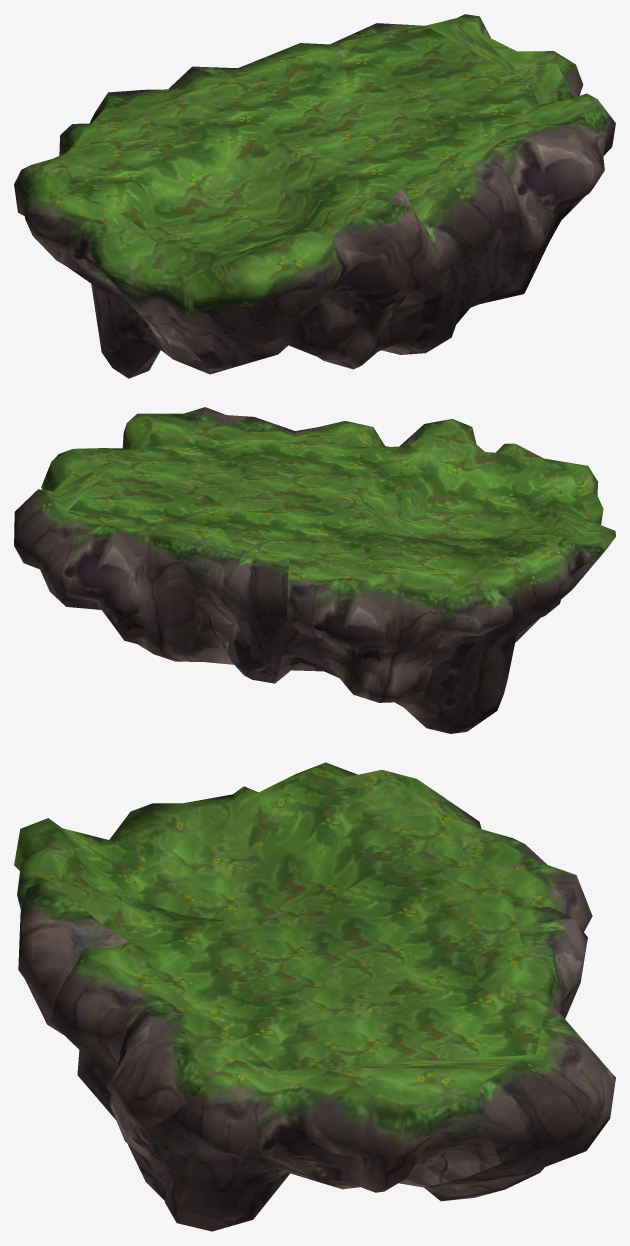
Rendered from Stage_ZhuCheng_ShanTi06.FBX.
3 views of the same model, one above another, from view 1: azimuth 30°, elevation 25°; view 2: azimuth 150°, elevation 25°; view 3: azimuth 270°, elevation 25° (orthographic). The views are drawn at different scales.
Parts seen in each view (by area): view 1: Stage_ZhuCheng_ShanTi06; view 2: Stage_ZhuCheng_ShanTi06; view 3: Stage_ZhuCheng_ShanTi06.
Boxes of the visible parts, x1,y1,x2,y2 form: Stage_ZhuCheng_ShanTi06: (14,14,615,378); Stage_ZhuCheng_ShanTi06: (14,407,615,733); Stage_ZhuCheng_ShanTi06: (14,762,615,1231).
Bounding box in the file's own units: 1936 × 756 × 1417.
